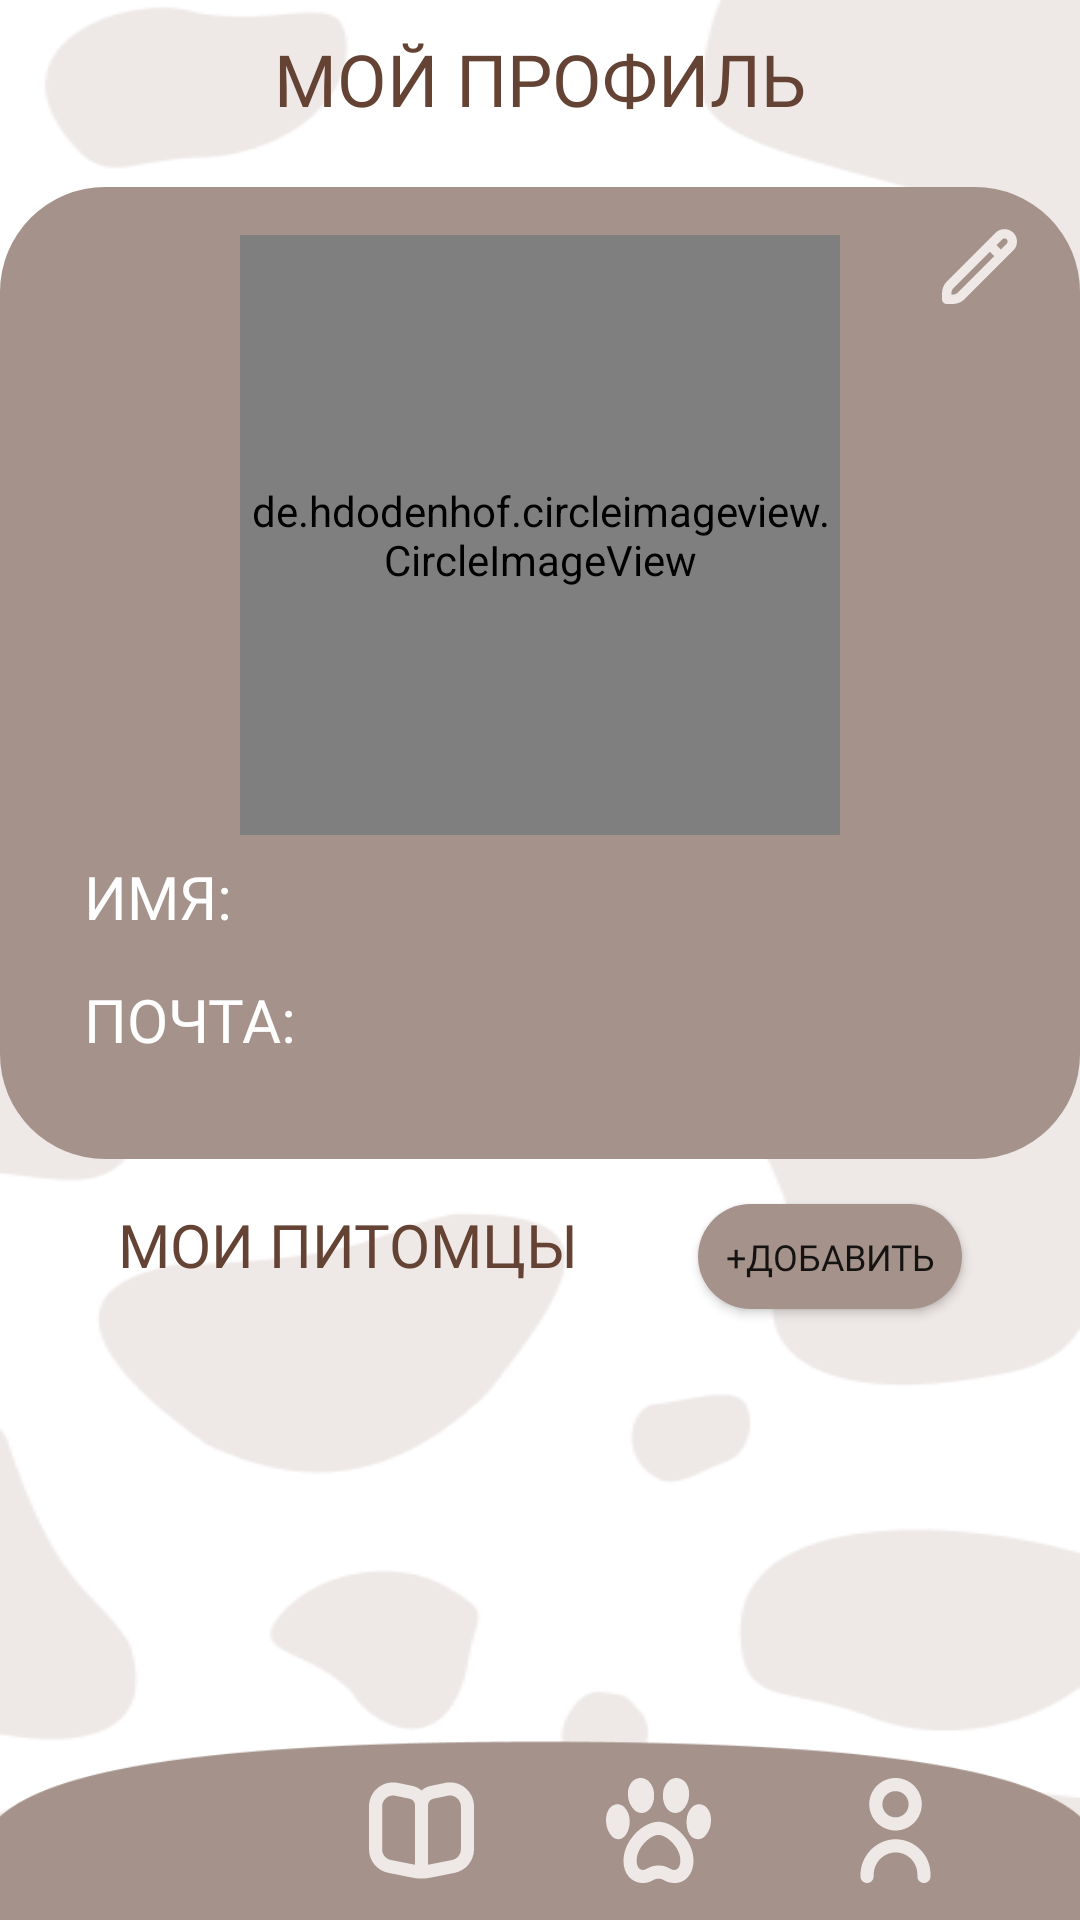

Where to tap for icons on this 1080px x 1920px app screen, as (x=x, y=y):
diary: (x=421, y=1830)
pets: (x=658, y=1830)
profile: (x=895, y=1830)
